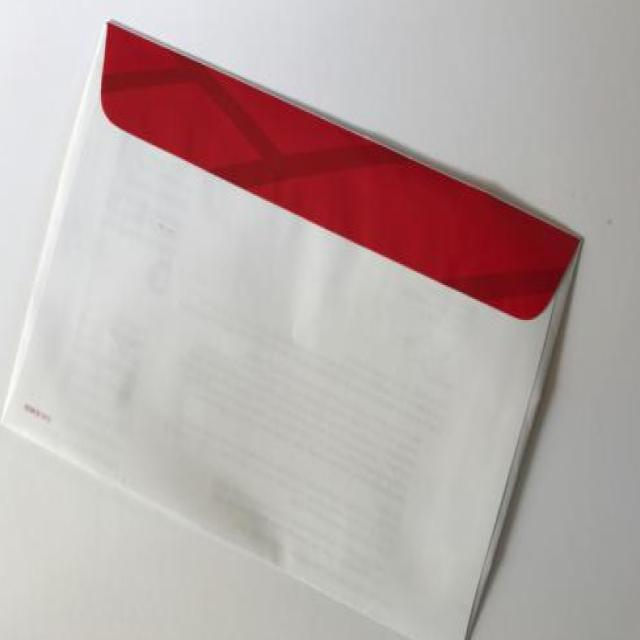kertas: (0, 14, 586, 640)
